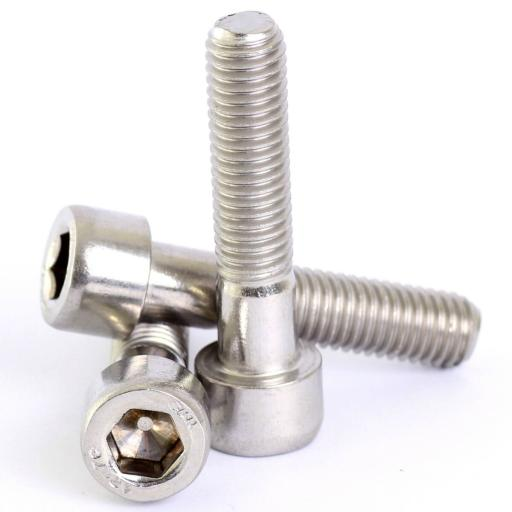Hex-Allen: (78, 354, 211, 506)
